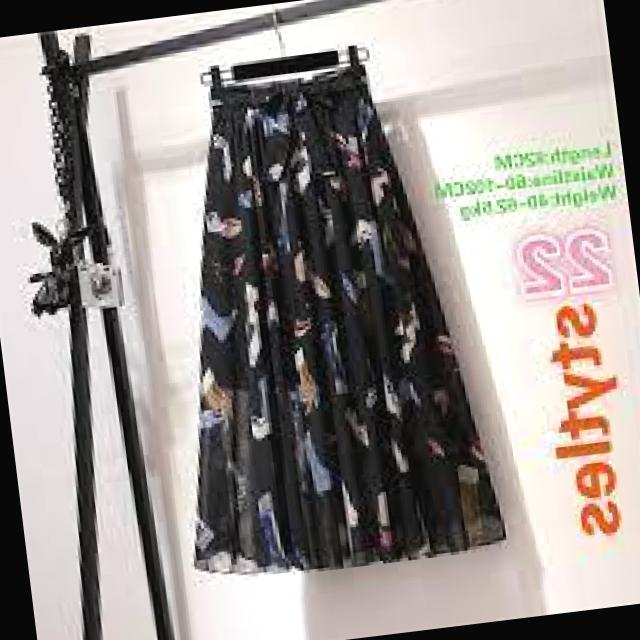skirt: (149, 36, 508, 582)
